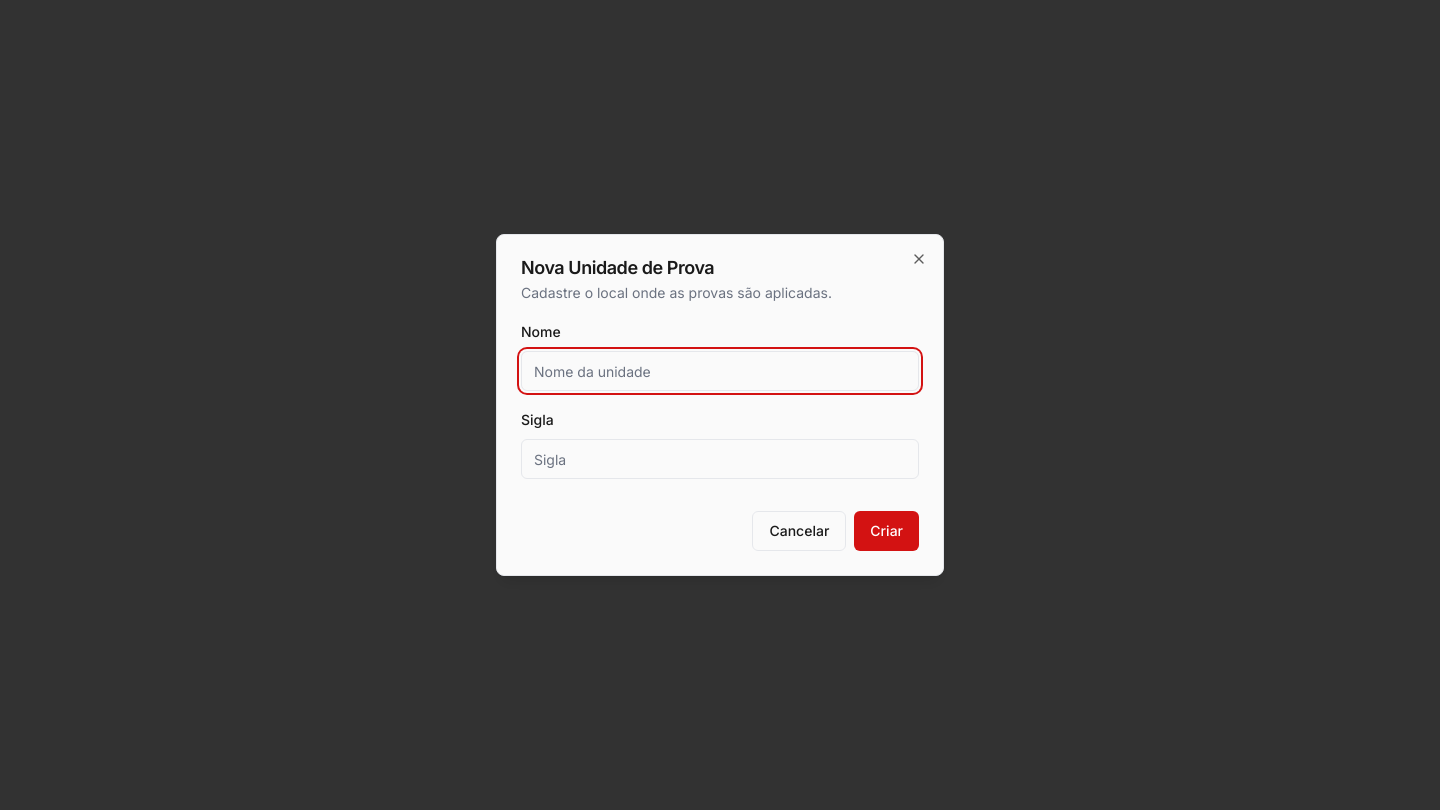
UnidadeProvaDialog (interação) › modo criação › não submete sem nome nem sigla, e diz o que falta
Click the button "Criar": x=887, y=531 854,511 -> 919,551
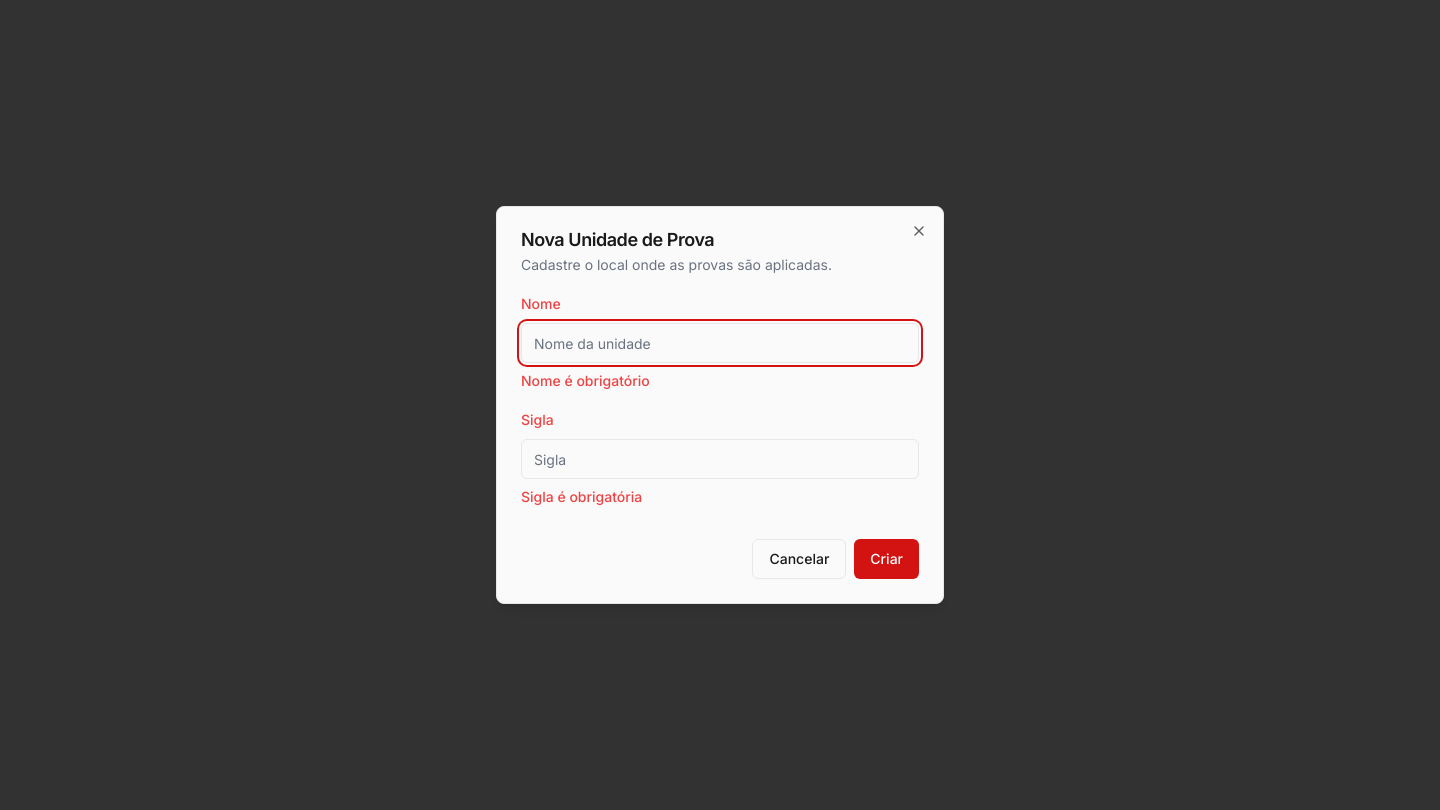
Expected: the text "Nome é obrigatório" is shown, 521,372 -> 650,389
Expected: the text "Sigla é obrigatória" is shown, 521,488 -> 642,505
